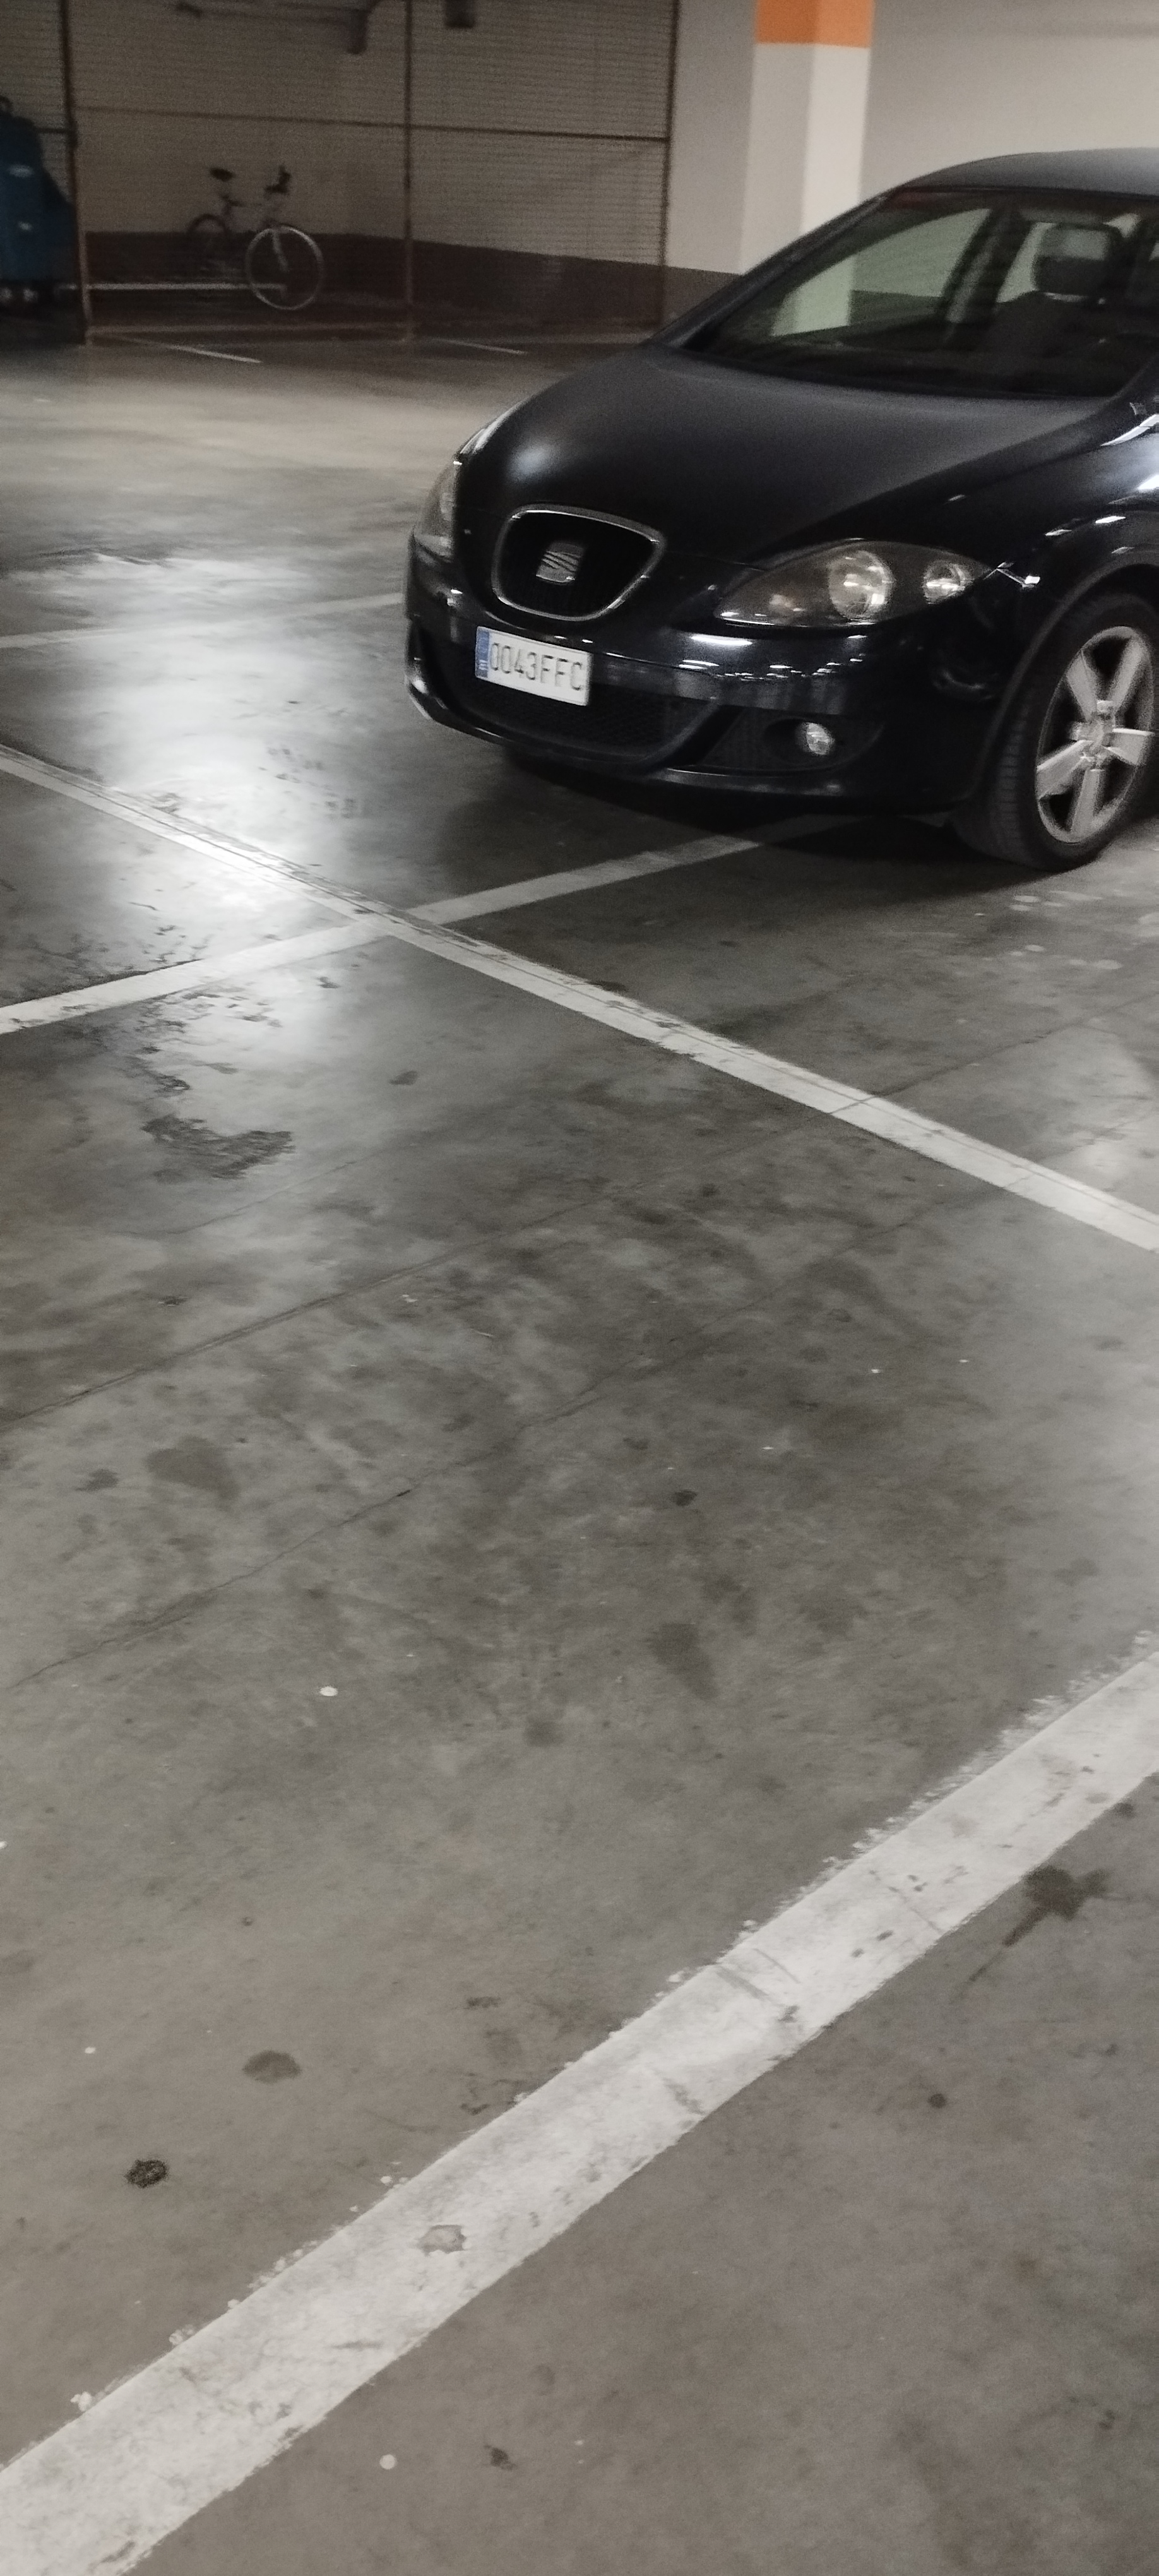Car: (403, 158, 1158, 869)
Plate: (482, 630, 597, 681)
